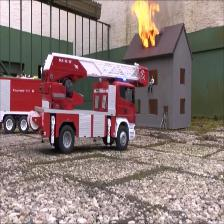fire: (132, 1, 160, 48)
